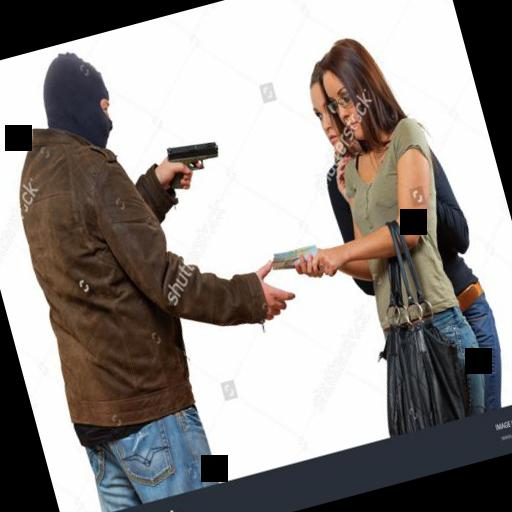Handgun: (157, 134, 227, 192)
